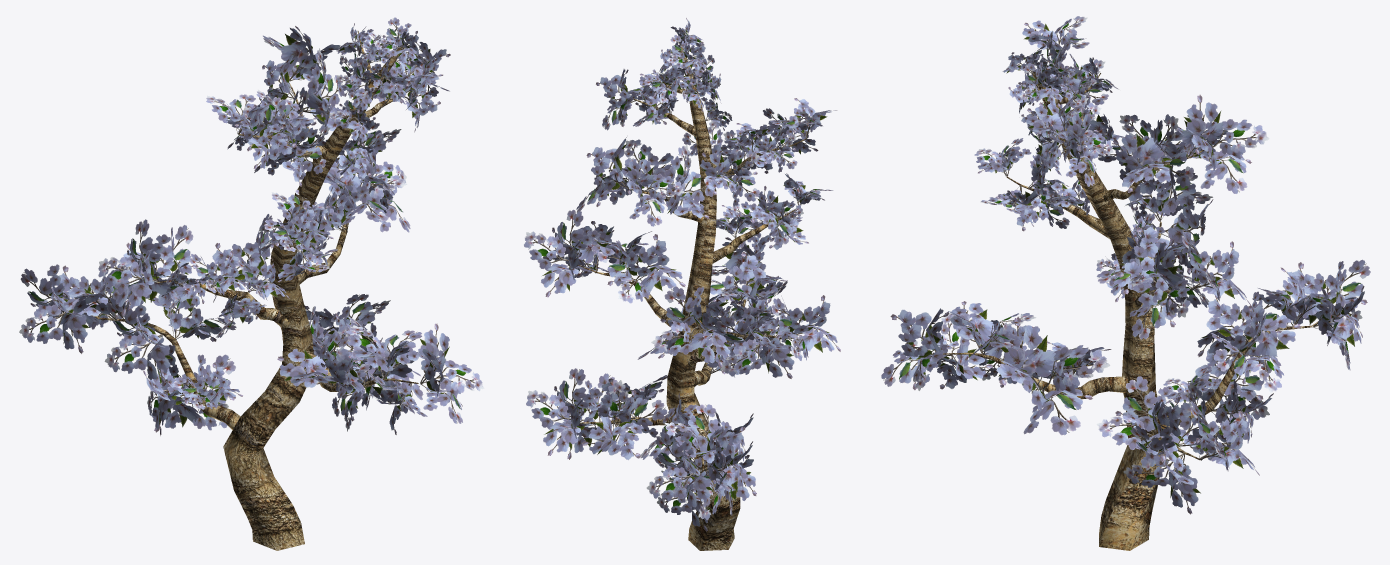
File: cherry_tree1.fbx
3 views of the same model, side by side, from view 1: azimuth 30°, elevation 25°; view 2: azimuth 150°, elevation 25°; view 3: azimuth 270°, elevation 25° (orthographic). The views are drawn at different scales.
Visible parts, largest first — view 1: leavesSide, trunk; view 2: leavesSide, trunk; view 3: leavesSide, trunk.
Part boxes in pixels (x1,y1,x2,y2): leavesSide: [19, 17, 484, 435]; trunk: [94, 31, 418, 550]; leavesSide: [524, 18, 840, 531]; trunk: [577, 46, 806, 550]; leavesSide: [881, 16, 1370, 514]; trunk: [943, 72, 1317, 550].
Bounding box in the file's own units: 48.94 × 75.35 × 63.8.
